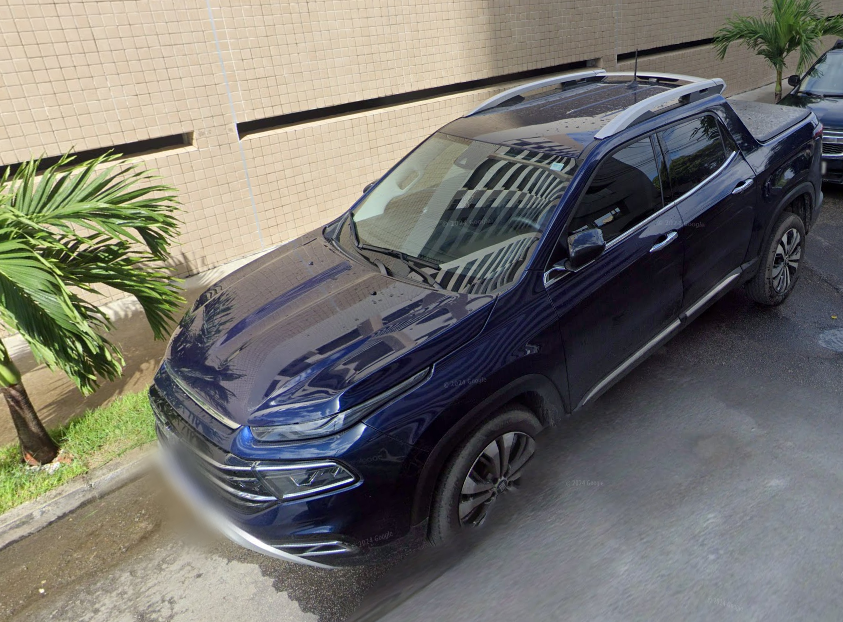car: (131, 61, 830, 569)
